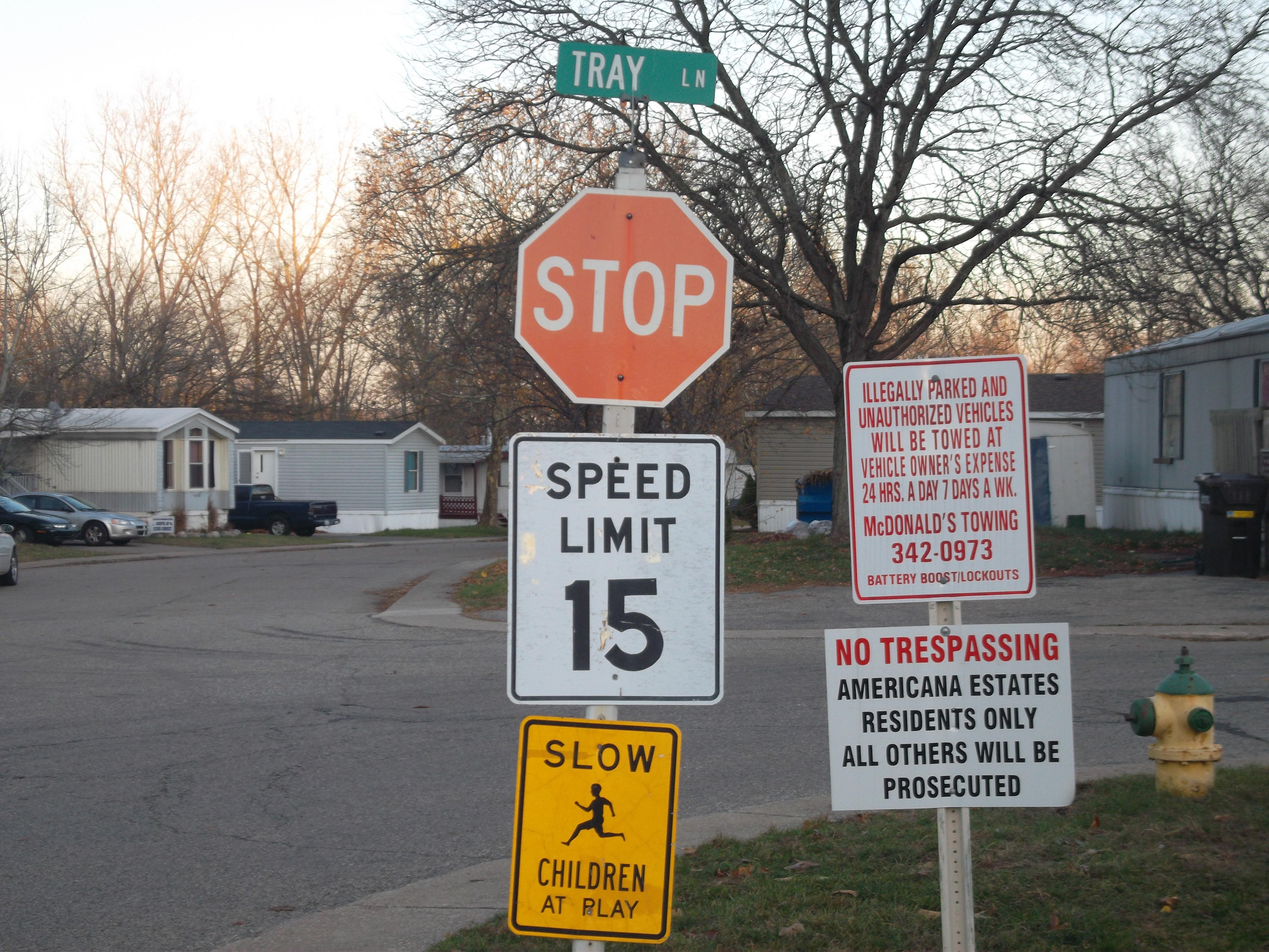Stop: (534, 187, 737, 390)
